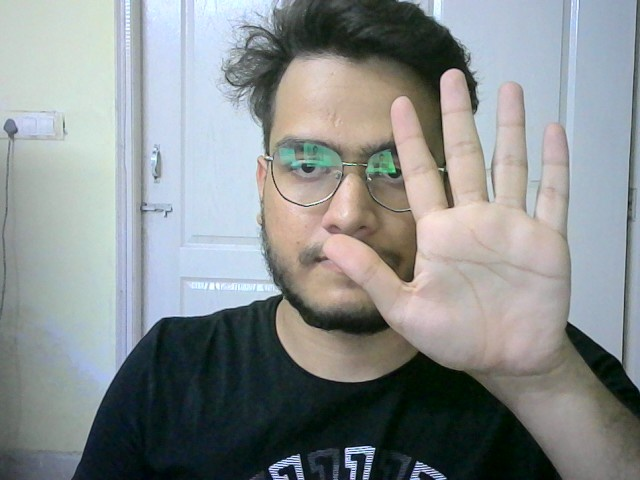Hello: (326, 67, 581, 376)
